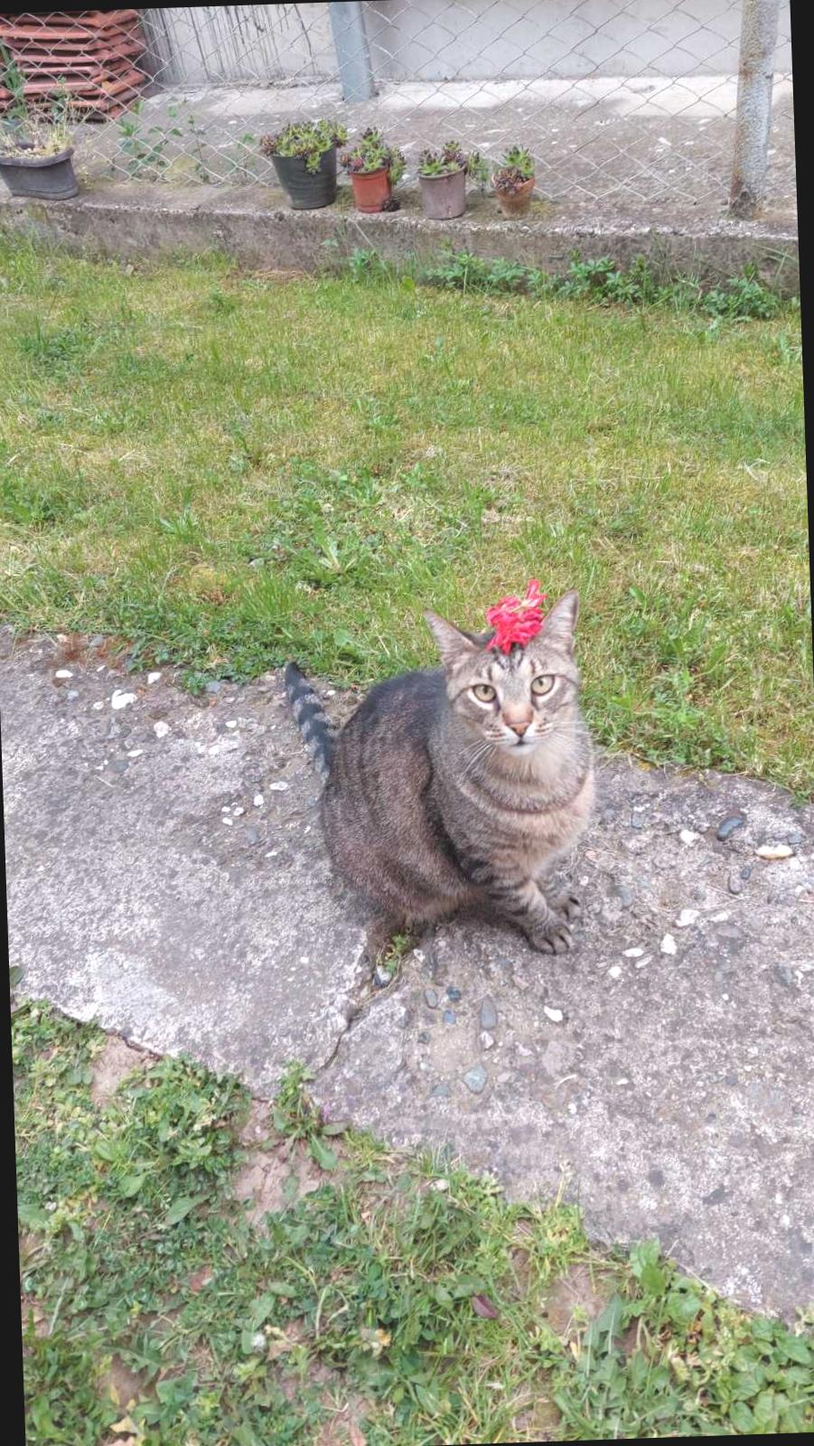macka: (281, 589, 602, 967)
